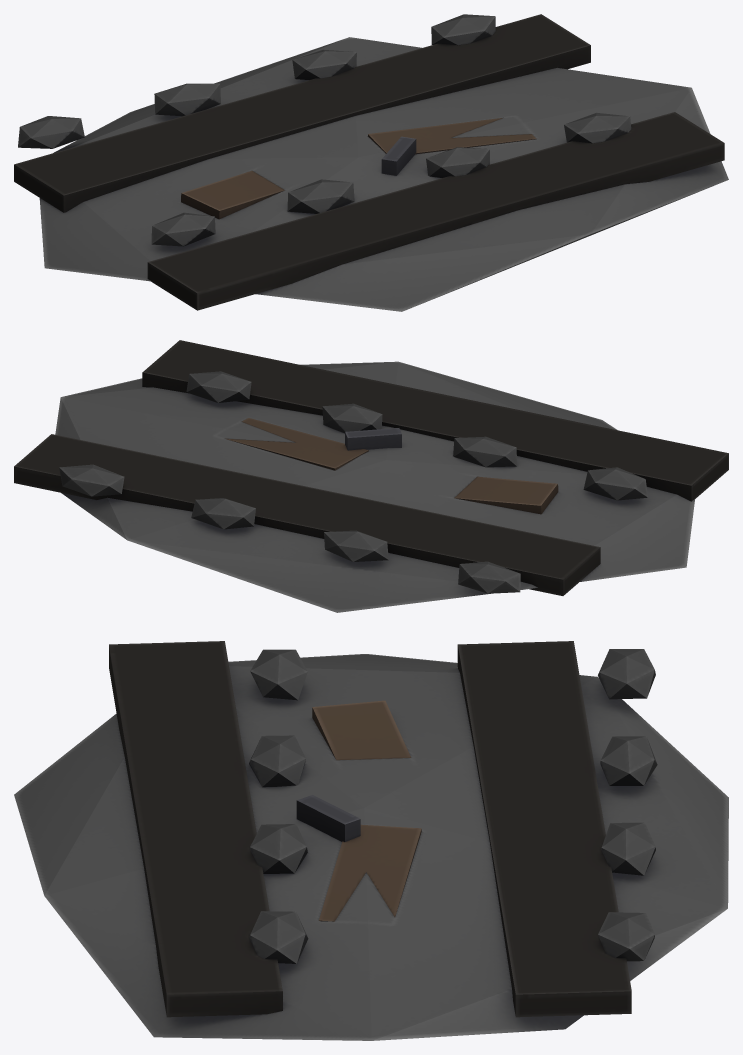
The model's file is sign_giant_rut.glb.
3 views of the same model, one above another, from view 1: azimuth 30°, elevation 25°; view 2: azimuth 150°, elevation 25°; view 3: azimuth 270°, elevation 25° (orthographic). The views are drawn at different scales.
Parts seen in each view (by area): view 1: sign_giant_rut; view 2: sign_giant_rut; view 3: sign_giant_rut.
Part boxes in pixels (x1,y1,x2,y2): sign_giant_rut: (14, 14, 728, 311); sign_giant_rut: (14, 340, 728, 612); sign_giant_rut: (14, 641, 728, 1040).
Bounding box in the file's own units: 2.36 × 0.2282 × 1.72.
1 material, 1 textured.
